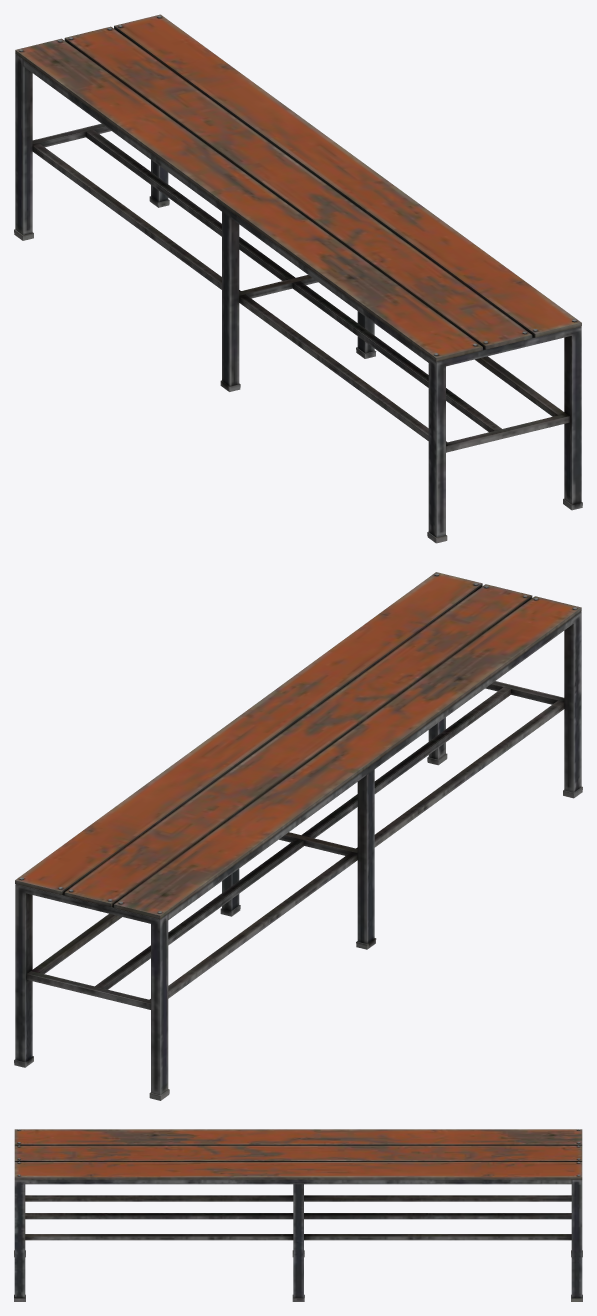
Rendered from bench-old.glb.
3 views of the same model, one above another, from view 1: azimuth 30°, elevation 25°; view 2: azimuth 150°, elevation 25°; view 3: azimuth 270°, elevation 25° (orthographic). The views are drawn at different scales.
Visible parts, largest first — view 1: bench_old_bench_0; view 2: bench_old_bench_0; view 3: bench_old_bench_0.
Part boxes in pixels (bbox=[...]): bench_old_bench_0: bbox=[14, 14, 582, 543]; bench_old_bench_0: bbox=[14, 572, 582, 1100]; bench_old_bench_0: bbox=[14, 1129, 582, 1301].
Bounding box in the file's own units: 0.3723 × 0.45 × 1.85.
Materials: 1 (1 with a texture image).
